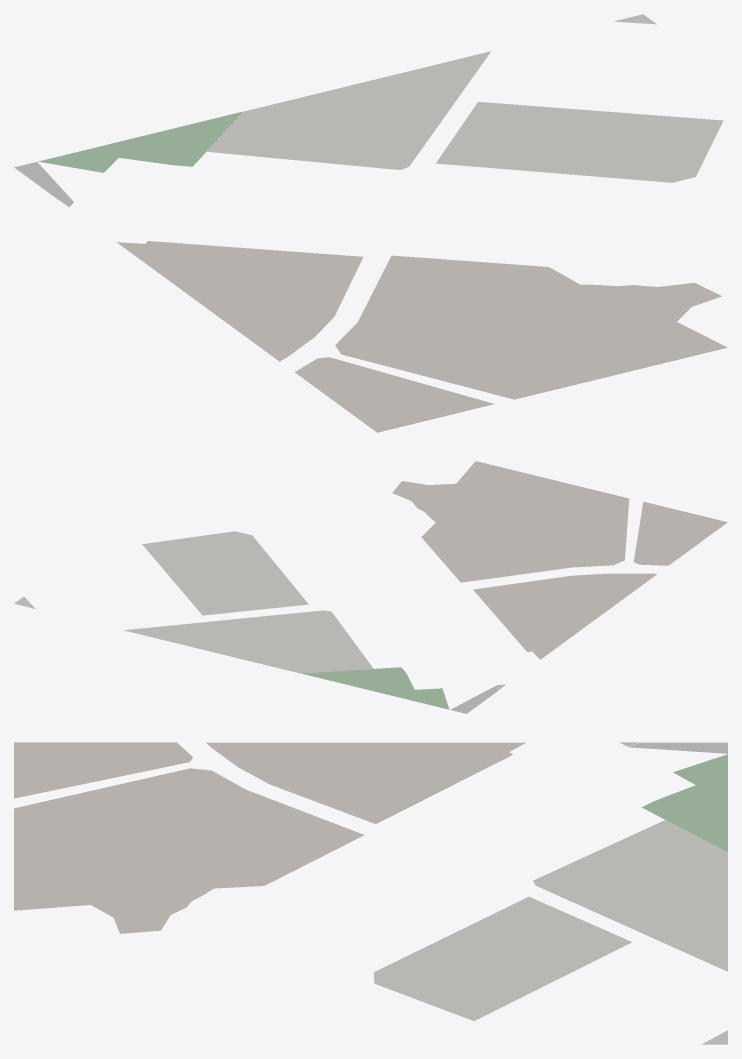
The model's file is 104_87_mid.glb.
3 renders of one model, top to bottom at view 1: azimuth 30°, elevation 25°; view 2: azimuth 150°, elevation 25°; view 3: azimuth 270°, elevation 25°, orthographic. The views are drawn at different scales.
Size of the model in its own units: 500 by 0.6694 by 500.
